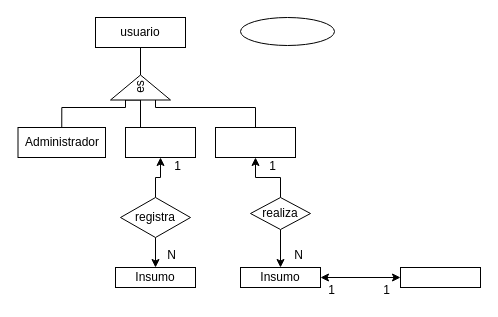
Image size: 498x317. Some labels were removed from this diagram. Each missing label, with the centre of its shape:
"reporte" belongs at point (255, 142).
"Tecnico" belongs at point (160, 142).
"Ticket" belongs at point (440, 277).
